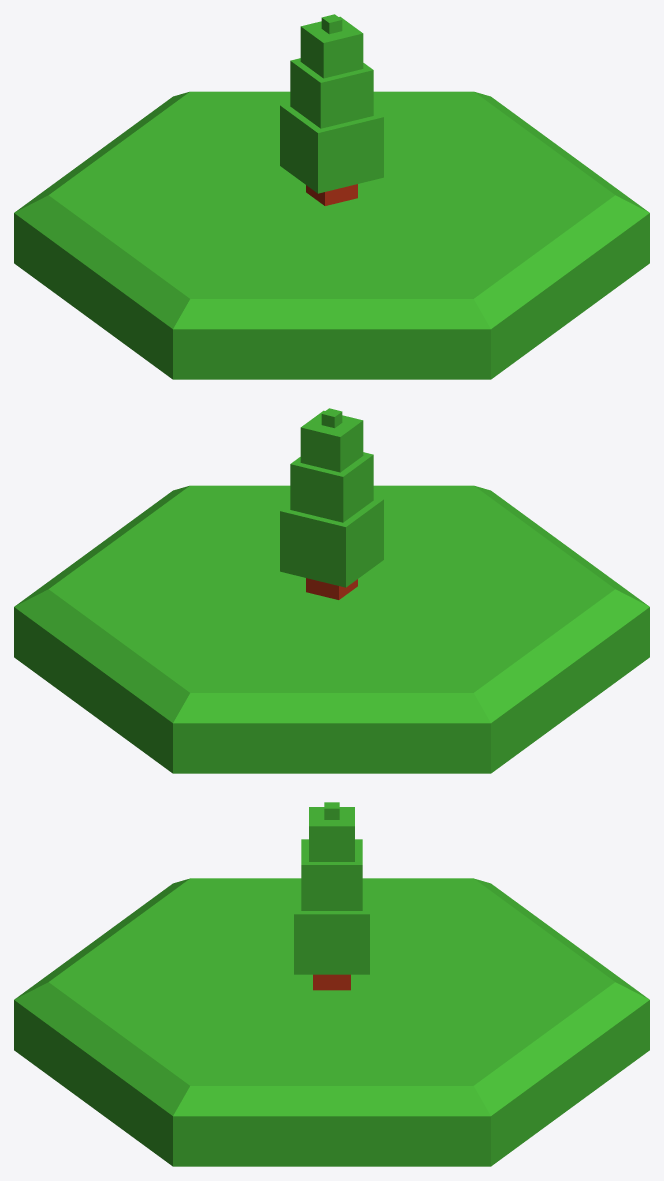
The model's file is tile_beveled_with_tree_2.fbx.
3 renders of one model, top to bottom at view 1: azimuth 30°, elevation 25°; view 2: azimuth 150°, elevation 25°; view 3: azimuth 270°, elevation 25°, orthographic.
Parts seen in each view (by area): view 1: Cylinder, Cube.006, Cube.007, Cube.008, Cube.005; view 2: Cylinder, Cube.006, Cube.007, Cube.008, Cube.005; view 3: Cylinder, Cube.006, Cube.007, Cube.008, Cube.005.
Part boxes in pixels (x1,y1,x2,y2): Cylinder: [14, 91, 649, 379]; Cube.006: [280, 103, 383, 193]; Cube.007: [290, 58, 373, 128]; Cube.008: [300, 16, 363, 78]; Cube.005: [306, 184, 357, 205]; Cylinder: [14, 485, 649, 773]; Cube.006: [280, 497, 383, 587]; Cube.007: [290, 452, 373, 522]; Cube.008: [300, 410, 363, 472]; Cube.005: [306, 578, 357, 599]; Cylinder: [14, 878, 649, 1166]; Cube.006: [294, 882, 369, 974]; Cube.007: [301, 839, 362, 910]; Cube.008: [309, 807, 354, 861]; Cube.005: [313, 974, 350, 990].
Bounding box in the file's own units: 17.32 × 8.49 × 20.
